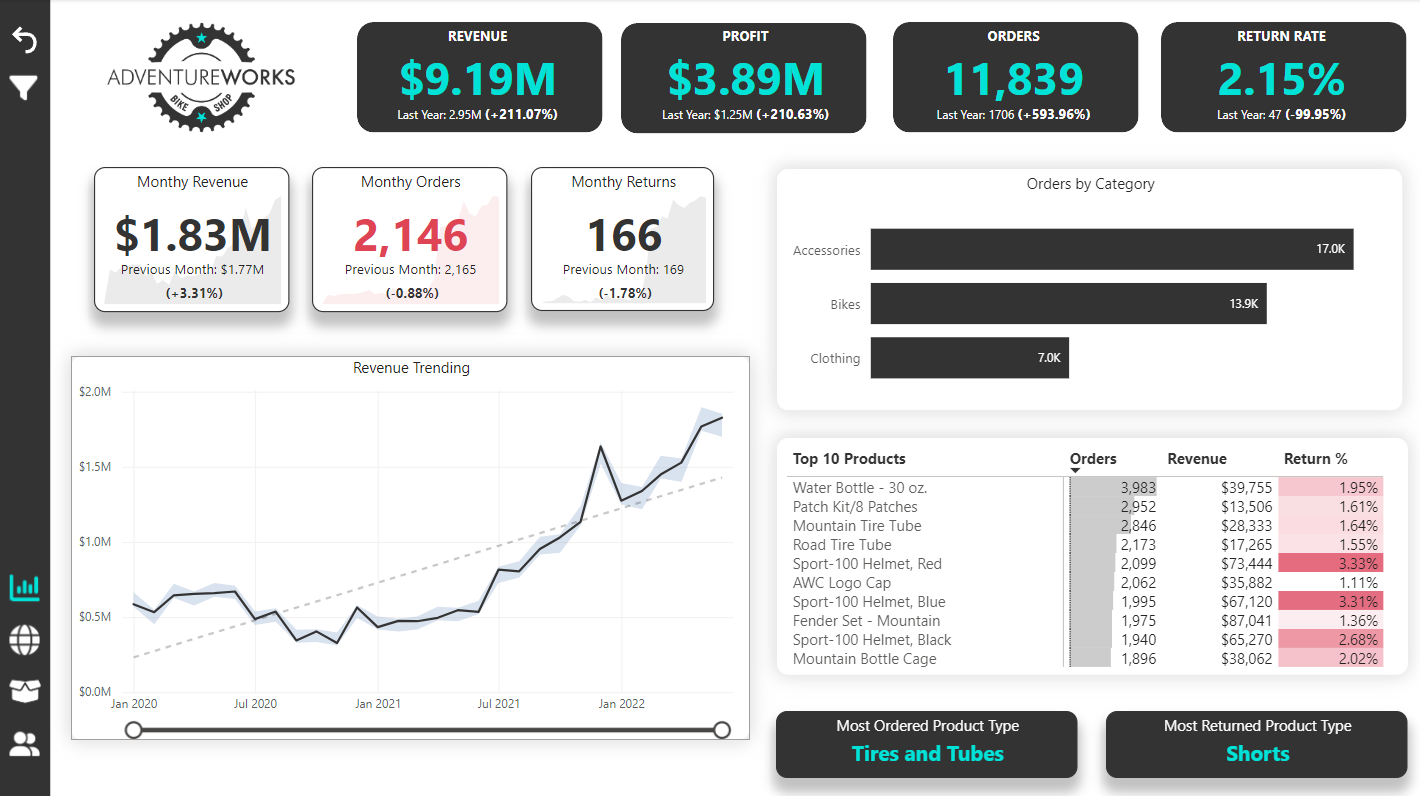

The dashboard page shown, as its layout file describes it:
{"tool":"powerbi","page":{"name":"Exec Dashboard","canvas":[1280,720],"ordinal":0},"visuals":[{"type":"group","id":"g1","title":"KPI Background","box":[319.3,20.2,940,100],"z":0},{"type":"shape","box":[1039.3,20.2,220,99],"z":0,"group":"g1"},{"type":"actionButton","box":[4.5,508.1,35.3,39.8],"z":0,"group":"g2"},{"type":"image","title":"AW Logo","box":[72.2,9.8,216,120],"z":1000},{"type":"shape","box":[799.3,20.2,220,99],"z":1000,"group":"g1"},{"type":"actionButton","box":[4.5,554.3,35.3,39.8],"z":1000,"group":"g2"},{"type":"shape","box":[555.3,21.2,220,99],"z":2000,"group":"g1"},{"type":"kpi","title":"RETURN RATE","fields":{"Indicator":["Measure Table.Return Rate"],"TrendLine":["Calendar Lookup.Year"],"Goal":["Measure Table.Previous Year Return Rate"]},"box":[1040,24,216,96],"z":2000},{"type":"actionButton","box":[4.5,647.4,35.2,39.6],"z":2000,"group":"g2"},{"type":"shape","box":[319.3,20.2,220,99],"z":3000,"group":"g1"},{"type":"kpi","title":"ORDERS","fields":{"Indicator":["Measure Table.Total Orders"],"TrendLine":["Calendar Lookup.Year"],"Goal":["Measure Table.Previous Year Orders"]},"box":[800,24,216,96],"z":3000},{"type":"actionButton","box":[4.1,600.5,36.1,40.5],"z":3000,"group":"g2"},{"type":"shape","title":"Left Navbar Background","box":[0,0,45,720],"z":4000},{"type":"kpi","title":"PROFIT","fields":{"Indicator":["Measure Table.Total Profit"],"TrendLine":["Calendar Lookup.Year"],"Goal":["Measure Table.Previous Year Profit"]},"box":[560,24,216,96],"z":5000},{"type":"lineChart","title":"Revenue Trending","fields":{"Y":["Measure Table.Total Revenue"],"Category":["Calendar Lookup.Start of Month"]},"box":[64,320,608,344],"z":6000},{"type":"kpi","title":"Monthy Revenue","fields":{"Indicator":["Measure Table.Total Revenue"],"TrendLine":["Calendar Lookup.Start of Month"],"Goal":["Measure Table.Previous Month Revenue"]},"box":[84.2,150.4,174.6,129.8],"z":7000},{"type":"kpi","title":"Monthy Orders","fields":{"TrendLine":["Calendar Lookup.Start of Month"],"Indicator":["Measure Table.Total Orders"],"Goal":["Measure Table.Previous Month Orders"]},"box":[279.7,150.4,174.6,129.8],"z":8000},{"type":"kpi","title":"Monthy Returns","fields":{"TrendLine":["Calendar Lookup.Start of Month"],"Indicator":["Measure Table.Total Returns"],"Goal":["Measure Table.Previous Month Returns"]},"box":[475.3,150.7,163.8,129.5],"z":9000},{"type":"clusteredBarChart","title":"Orders by Category","fields":{"Category":["Product Category Lookup.CategoryName"],"Y":["Measure Table.Total Orders"]},"box":[696,152,560,216],"z":10000},{"type":"pivotTable","fields":{"Rows":["Product Lookup.ProductName"],"Values":["Measure Table.Total Orders","Measure Table.Total Revenue","Measure Table.Return Rate"]},"box":[695.4,392.9,564.8,212.1],"z":11000},{"type":"card","title":"Most Ordered Product Type","fields":{"Values":["Min(Product Subcategory Lookup.SubcategoryName)"]},"box":[694.9,637.5,269.8,60.5],"z":12000},{"type":"card","title":"Most Returned Product Type","fields":{"Values":["Min(Product Subcategory Lookup.SubcategoryName)"]},"box":[990.6,637.5,269.8,60.5],"z":13000},{"type":"actionButton","box":[5.4,19.9,34.4,33.5],"z":14000},{"type":"group","id":"g2","title":"Navigation Buttons","box":[4.1,508.1,36.1,178.9],"z":15000},{"type":"actionButton","box":[4.4,60.3,33.2,40.2],"z":16000},{"type":"kpi","title":"REVENUE","fields":{"Indicator":["Measure Table.Total Revenue"],"Goal":["Measure Table.Previous Year Revenue"],"TrendLine":["Calendar Lookup.Year"]},"box":[320,24,216,96],"z":18000}]}

Visuals, with their boxes on the page's 1280x720 design canvas (x1, y1, x2, y2). These are canvas units, not pixel positions in the 1420x796 screenshot, which may show the page scaled, cropped or inside an application window:
"KPI Background" group: detection(319, 20, 1259, 120)
shape: detection(1039, 20, 1259, 119)
actionButton: detection(4, 508, 40, 548)
"AW Logo" image: detection(72, 10, 288, 130)
shape: detection(799, 20, 1019, 119)
actionButton: detection(4, 554, 40, 594)
shape: detection(555, 21, 775, 120)
"RETURN RATE" kpi: detection(1040, 24, 1256, 120)
actionButton: detection(4, 647, 40, 687)
shape: detection(319, 20, 539, 119)
"ORDERS" kpi: detection(800, 24, 1016, 120)
actionButton: detection(4, 600, 40, 641)
"Left Navbar Background" shape: detection(0, 0, 45, 720)
"PROFIT" kpi: detection(560, 24, 776, 120)
"Revenue Trending" lineChart: detection(64, 320, 672, 664)
"Monthy Revenue" kpi: detection(84, 150, 259, 280)
"Monthy Orders" kpi: detection(280, 150, 454, 280)
"Monthy Returns" kpi: detection(475, 151, 639, 280)
"Orders by Category" clusteredBarChart: detection(696, 152, 1256, 368)
pivotTable - Product Lookup.ProductName x Measure Table.Total Orders: detection(695, 393, 1260, 605)
"Most Ordered Product Type" card: detection(695, 638, 965, 698)
"Most Returned Product Type" card: detection(991, 638, 1260, 698)
actionButton: detection(5, 20, 40, 53)
"Navigation Buttons" group: detection(4, 508, 40, 687)
actionButton: detection(4, 60, 38, 100)
"REVENUE" kpi: detection(320, 24, 536, 120)
